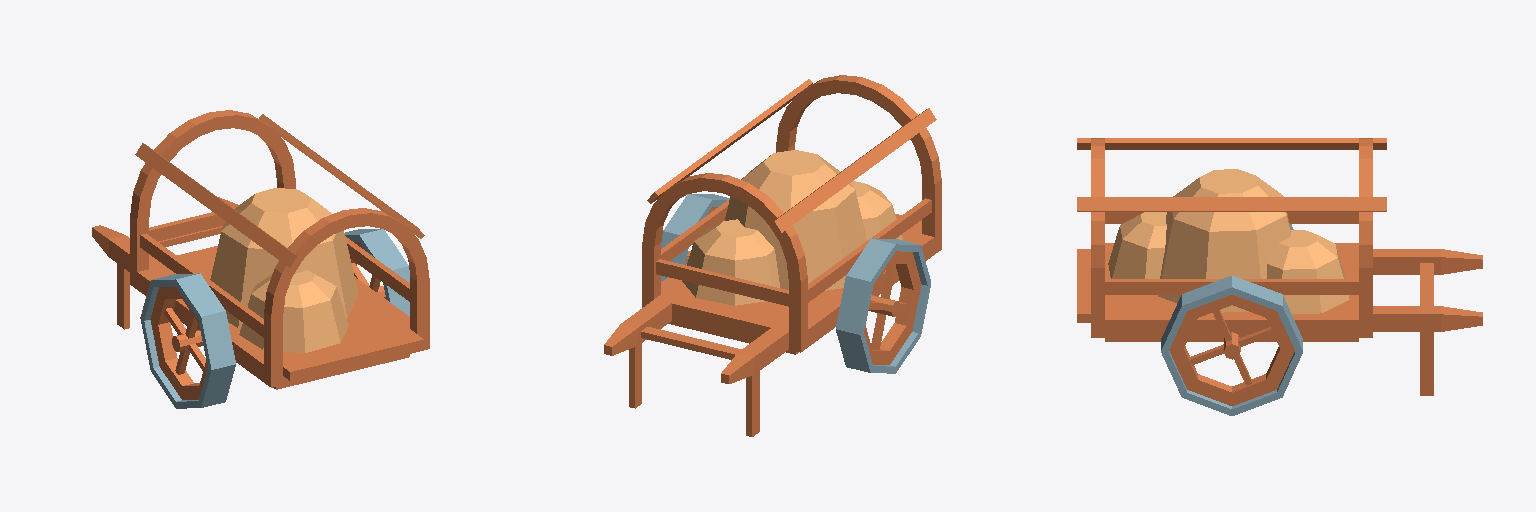
File: cartHigh.obj
3 renders of one model, left to right at view 1: azimuth 30°, elevation 25°; view 2: azimuth 150°, elevation 25°; view 3: azimuth 270°, elevation 25°, orthographic.
Visible parts, largest first — view 1: cartHigh, hay, wheel; view 2: cartHigh, hay, wheel; view 3: cartHigh, hay, wheel.
Boxes of the visible parts, x1,y1,x2,y2 form: cartHigh: [92, 110, 429, 389]; hay: [210, 188, 358, 352]; wheel: [140, 229, 409, 408]; cartHigh: [604, 75, 941, 436]; hay: [682, 150, 902, 305]; wheel: [661, 194, 930, 373]; cartHigh: [1077, 138, 1482, 395]; hay: [1108, 169, 1349, 313]; wheel: [1161, 224, 1302, 415].
Bounding box in the file's own units: 0.8525 × 0.8605 × 1.44.